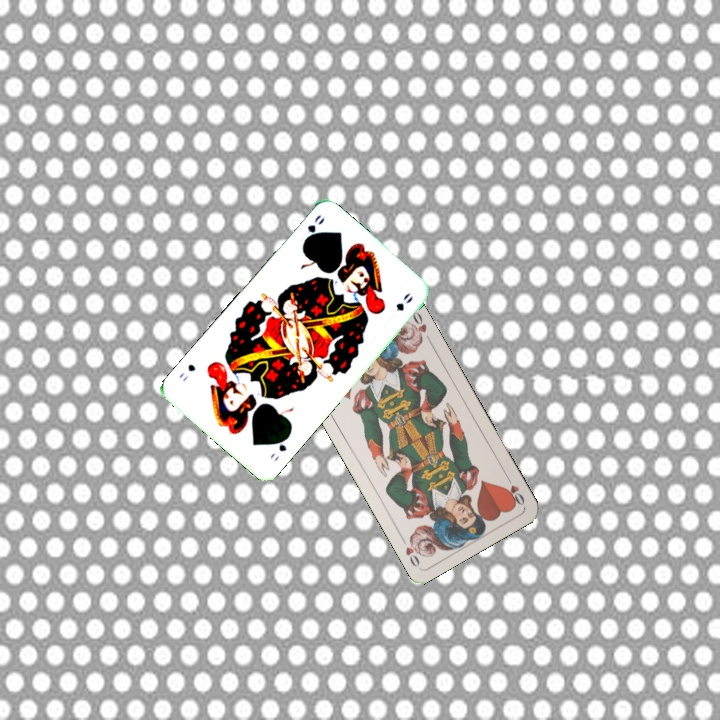GO: (299, 211, 327, 247), (266, 431, 292, 464)
HO: (501, 471, 527, 508)
